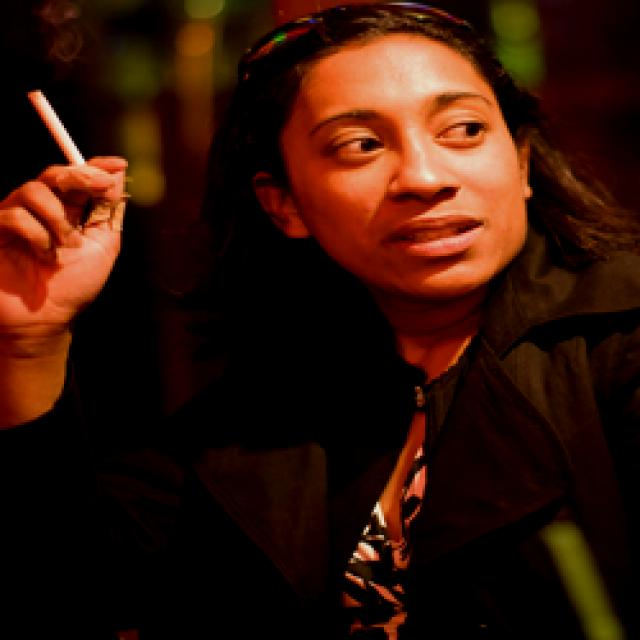Smooking: (28, 84, 104, 180)
